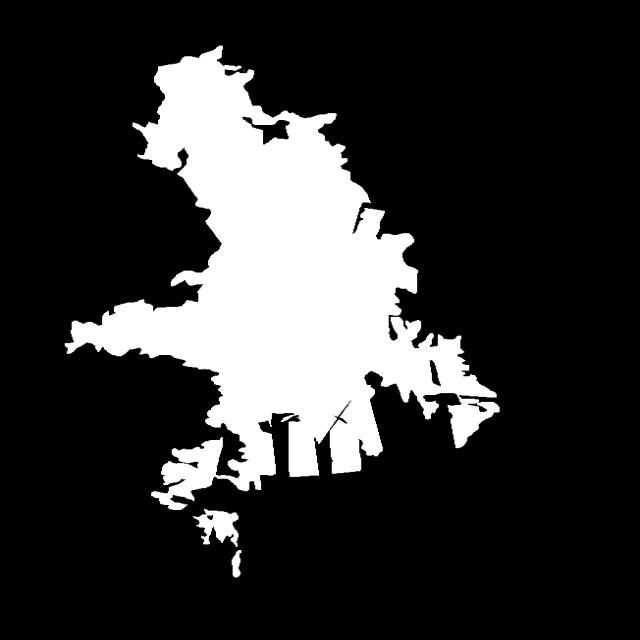fire: (135, 64, 498, 561)
